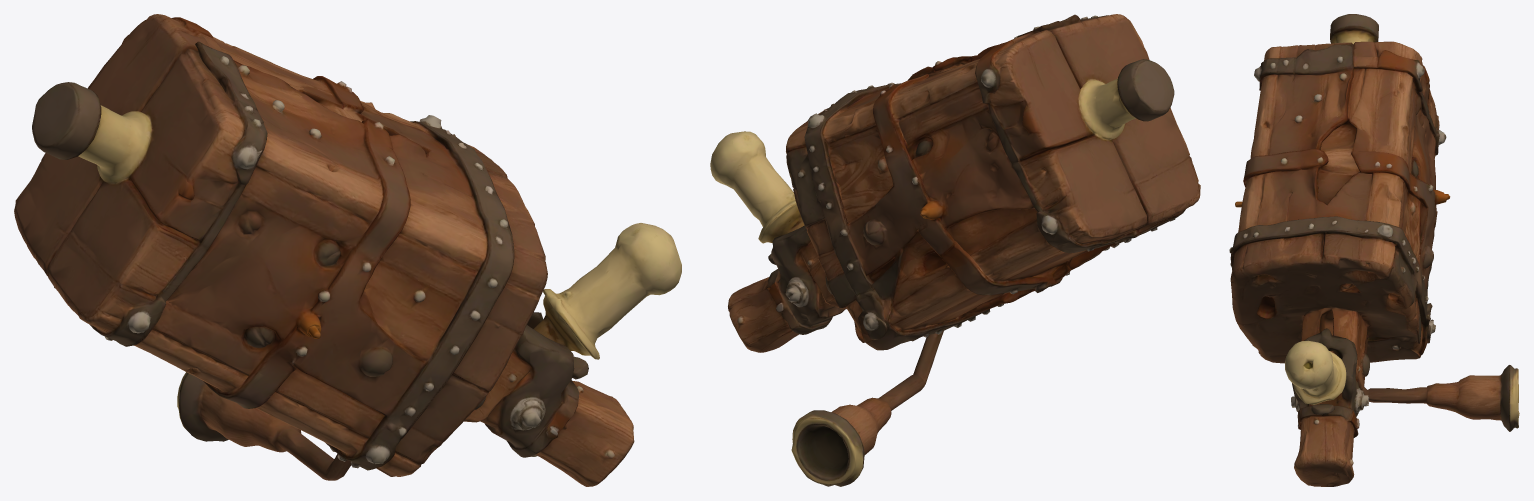
Rendered from bellows.glb.
The picture shows the model from 3 angles, left to right: view 1: azimuth 30°, elevation 25°; view 2: azimuth 150°, elevation 25°; view 3: azimuth 270°, elevation 25°; orthographic projection. The views are drawn at different scales.
Visible parts, largest first — view 1: tripo_node_fcd1b846-a808-434b-8343-c329e67d06f8; view 2: tripo_node_fcd1b846-a808-434b-8343-c329e67d06f8; view 3: tripo_node_fcd1b846-a808-434b-8343-c329e67d06f8.
Boxes of the visible parts, x1=… form: tripo_node_fcd1b846-a808-434b-8343-c329e67d06f8: x1=14, y1=14, x2=681, y2=486; tripo_node_fcd1b846-a808-434b-8343-c329e67d06f8: x1=710, y1=14, x2=1200, y2=486; tripo_node_fcd1b846-a808-434b-8343-c329e67d06f8: x1=1229, y1=14, x2=1519, y2=486.
Bounding box in the file's own units: 1 × 0.8351 × 0.6455.
Materials: 1 (1 with a texture image).
